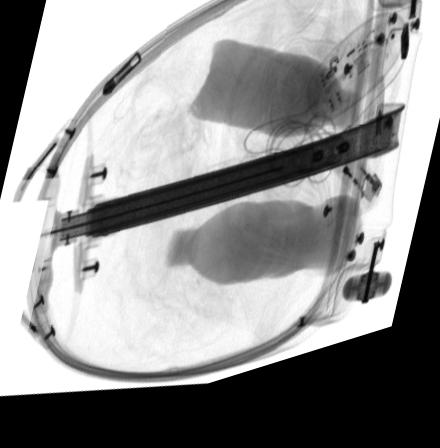Lighter: (330, 166, 383, 233)
